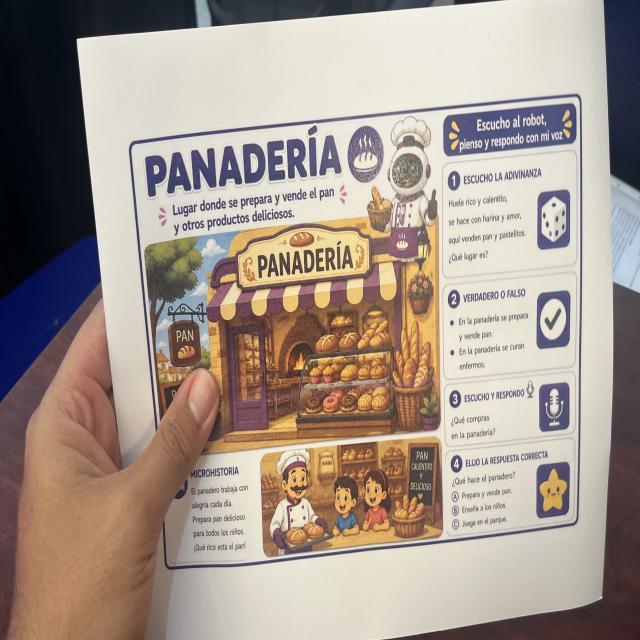panaderia: (125, 88, 586, 576)
